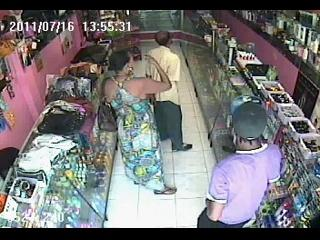Normal: (99, 48, 178, 195), (197, 98, 286, 228), (148, 30, 192, 152)
